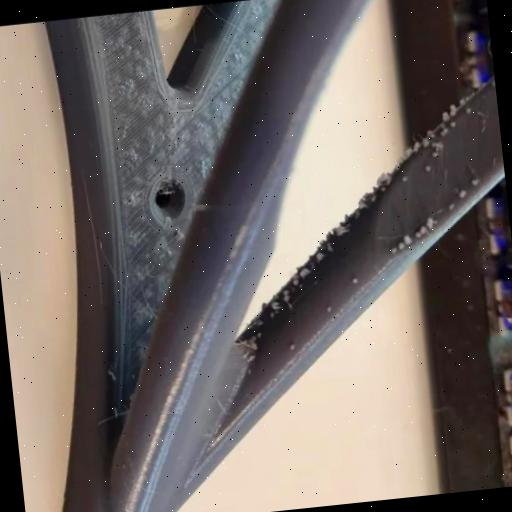blobs: (321, 299, 341, 316), (422, 216, 440, 231), (454, 185, 469, 202), (314, 246, 328, 264), (440, 106, 452, 126), (413, 224, 427, 241), (297, 265, 313, 279), (334, 222, 348, 238), (279, 288, 295, 302), (410, 138, 423, 154), (286, 340, 300, 354), (420, 160, 436, 172), (350, 271, 362, 286), (467, 174, 481, 186), (402, 231, 414, 245), (386, 244, 400, 256), (267, 300, 281, 311), (289, 277, 303, 286), (450, 116, 460, 128), (402, 171, 410, 185), (396, 239, 404, 250), (450, 201, 458, 211)
